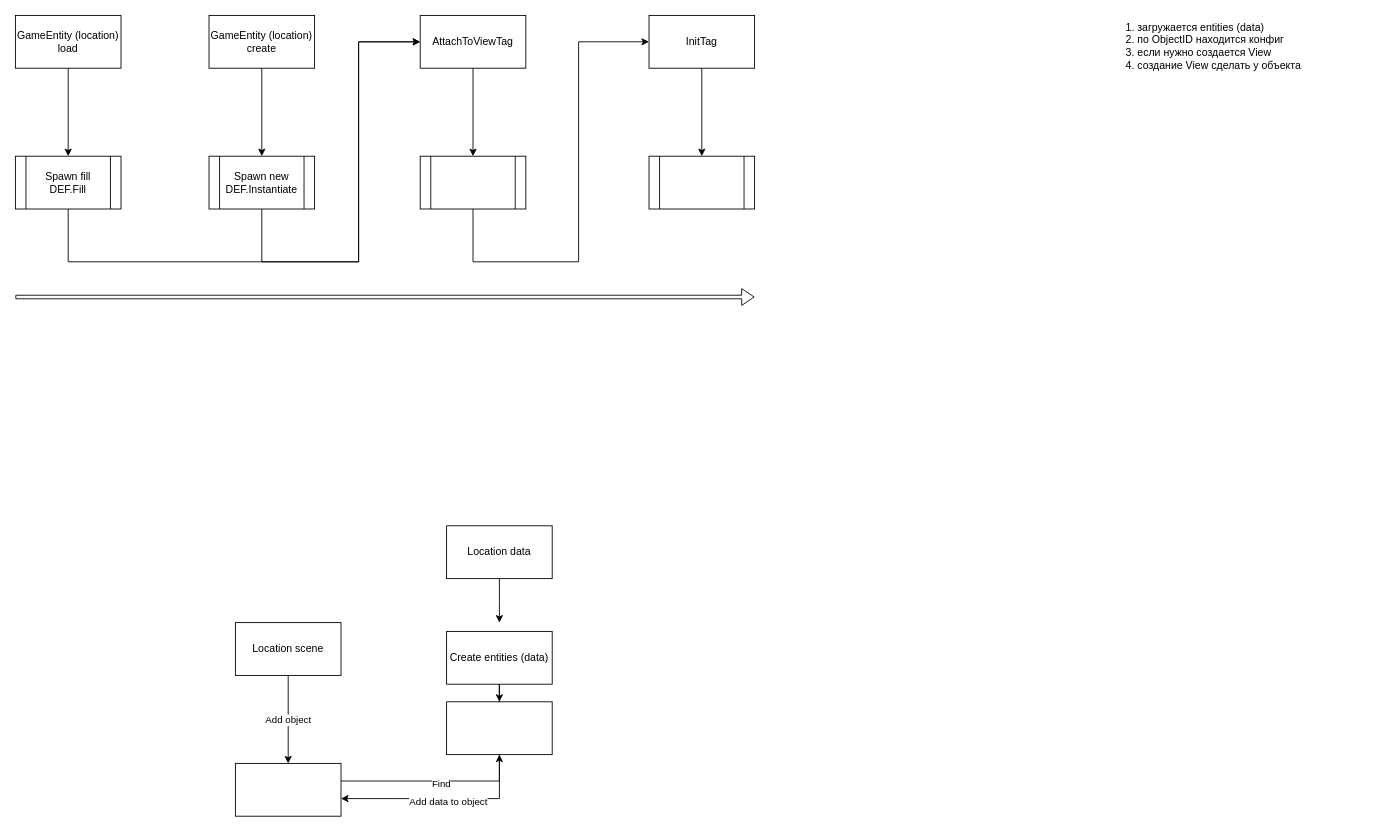
This 1395x832 diagram has some shape labels left out. Each missing label, with the centre of its shape:
"Find object" belongs at pixel 499 728.
"Location repository" belongs at pixel 288 789.
"Spawn AttachView" belongs at pixel 472 182.
"Spawn InitGameEntity" belongs at pixel 701 182.
